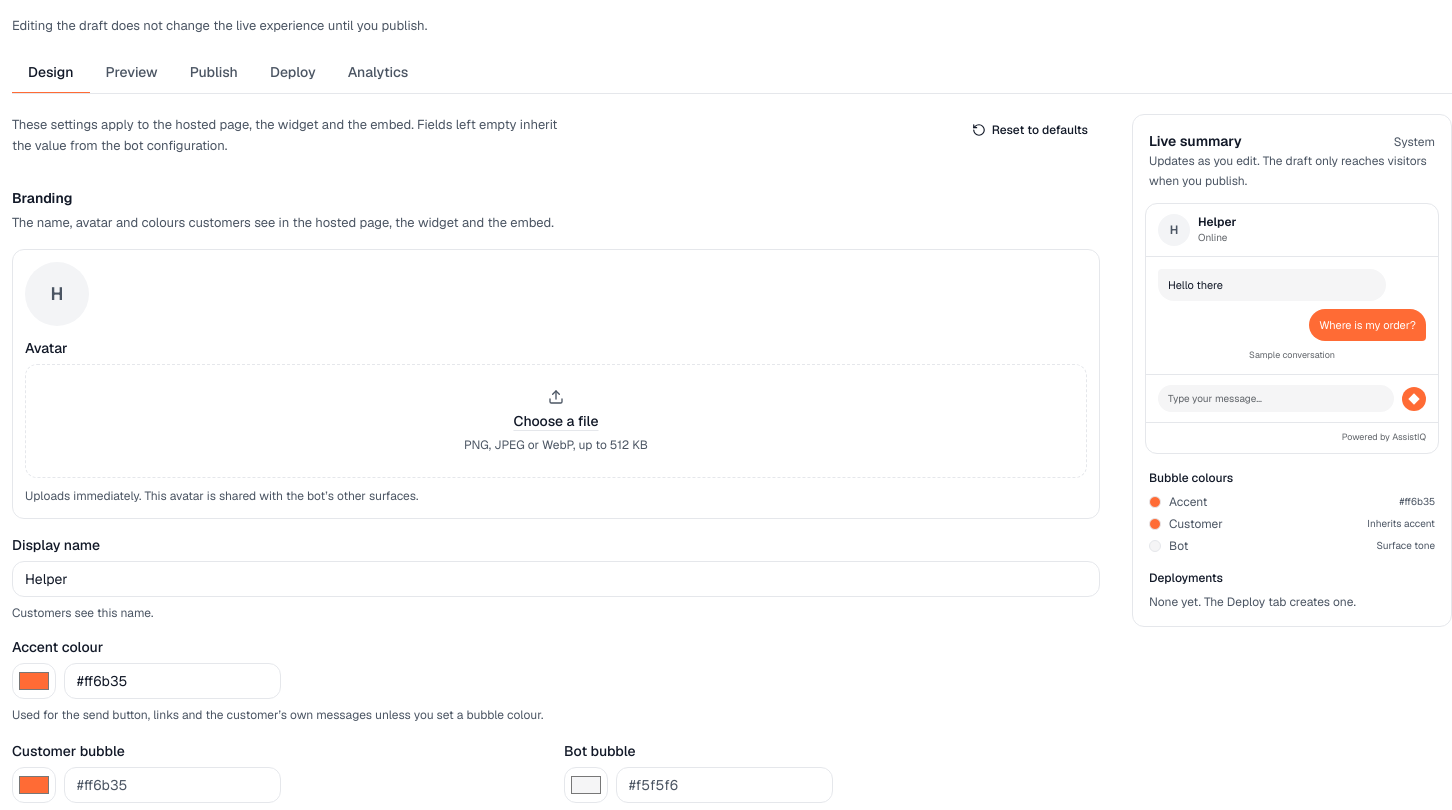
Test case: ExperienceStudio › tracks an edit and saves only the changed field with the version token
In the field labelled "Display name": coordinates (556, 579) [12, 561, 1100, 597], type "Support"
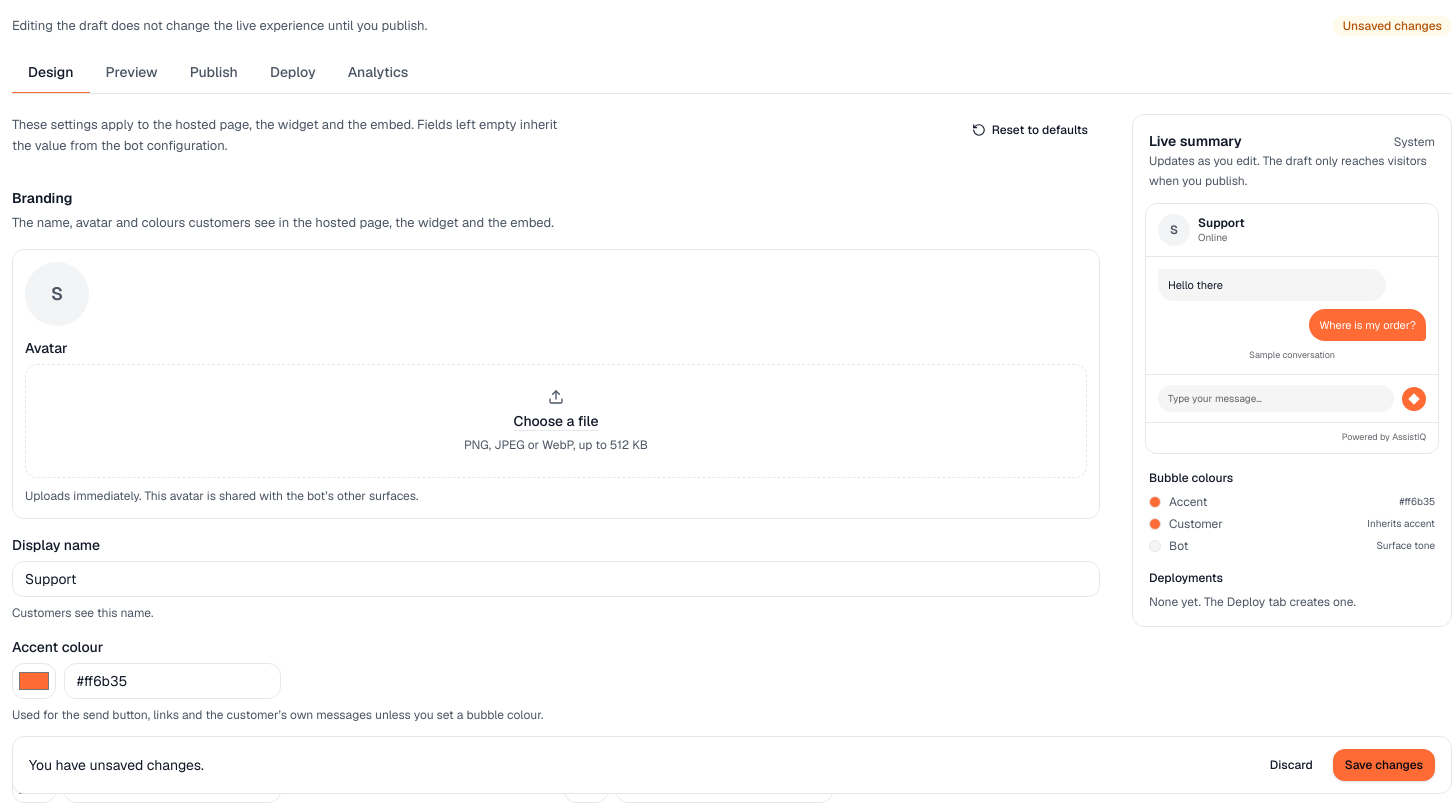
Expected: the text "Unsaved changes" is shown, [1333, 16, 1451, 36]
Click the button "Save changes": coordinates (1384, 765) [1333, 749, 1435, 781]
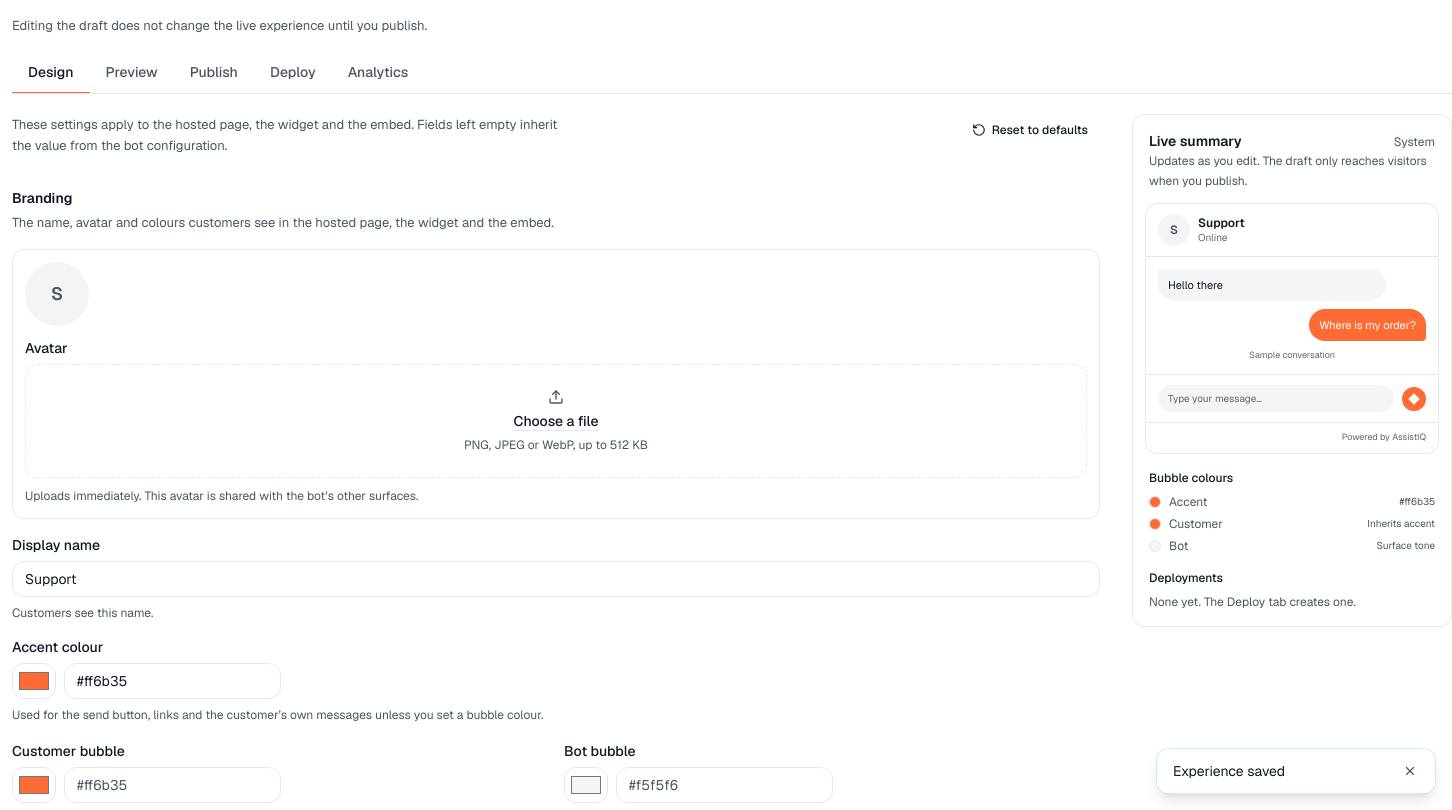
Expected: the text "Experience saved" is shown, [1173, 762, 1285, 780]
Expected: the text "Unsaved changes" is gone
